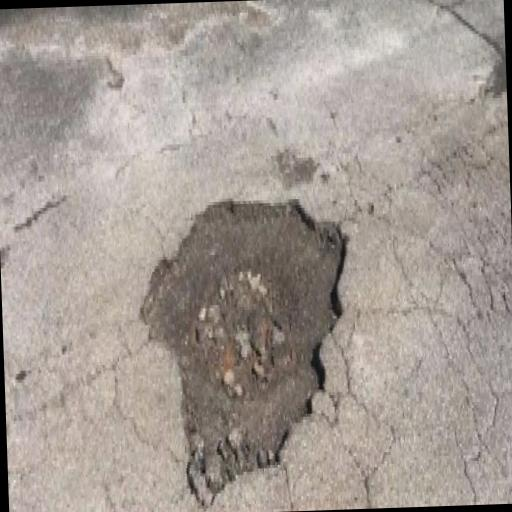pothole: (132, 182, 360, 508)
